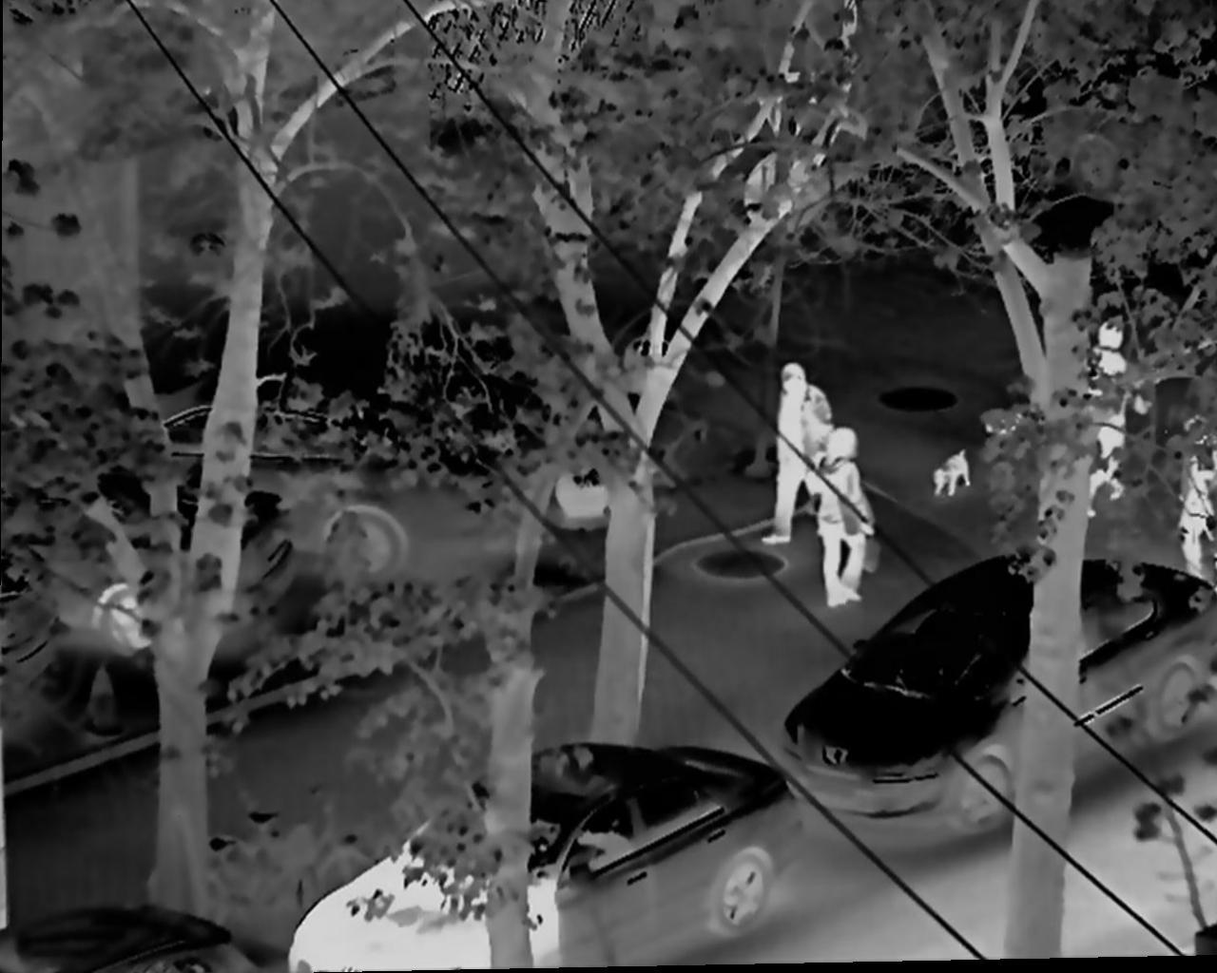person: (1070, 319, 1141, 538), (763, 365, 834, 557), (813, 425, 883, 619), (1170, 417, 1216, 600)
